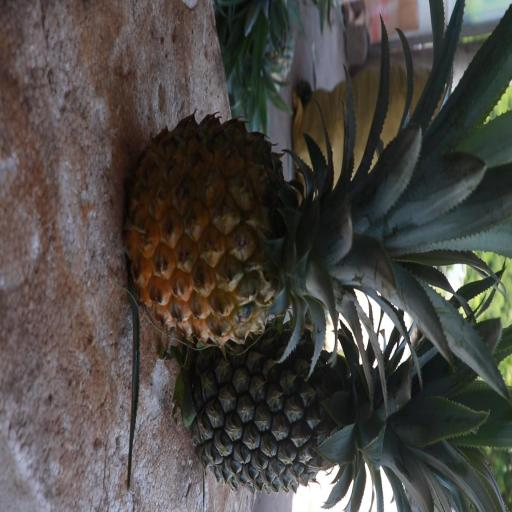Pineapple - v8 v1: (138, 113, 482, 338)
